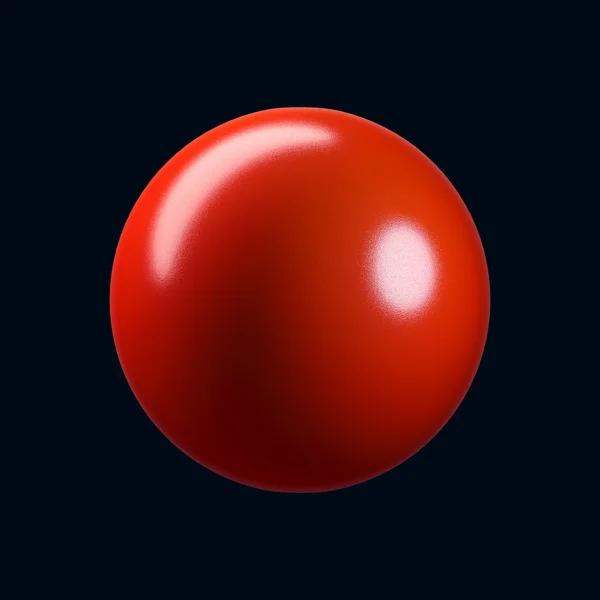Red_Ball: (80, 97, 501, 498)
